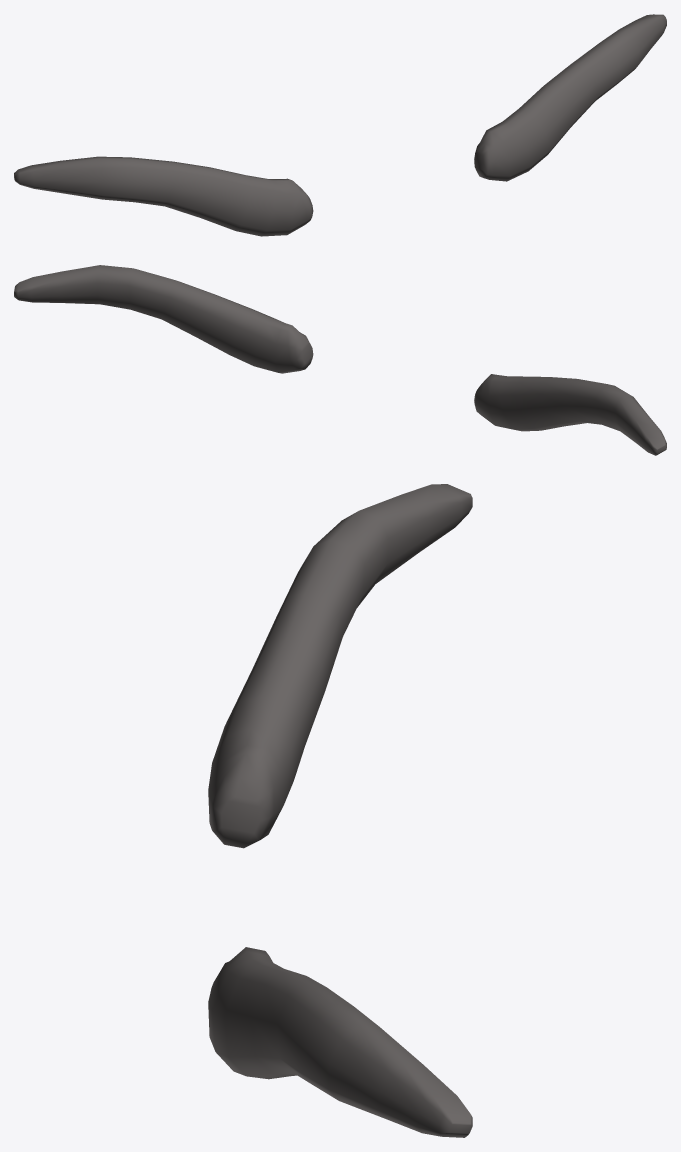
The model's file is Eyebrows_17_04.fbx.
3 renders of one model, top to bottom at view 1: azimuth 30°, elevation 25°; view 2: azimuth 150°, elevation 25°; view 3: azimuth 270°, elevation 25°, orthographic. The views are drawn at different scales.
Parts seen in each view (by area): view 1: Eyebrows_17_04; view 2: Eyebrows_17_04; view 3: Eyebrows_17_04.
Part boxes in pixels (<box>): Eyebrows_17_04: <box>14,14,666,236</box>; Eyebrows_17_04: <box>14,265,666,455</box>; Eyebrows_17_04: <box>208,484,472,1137</box>.
Size of the model in its own units: 18.79 by 2.52 by 3.3.
